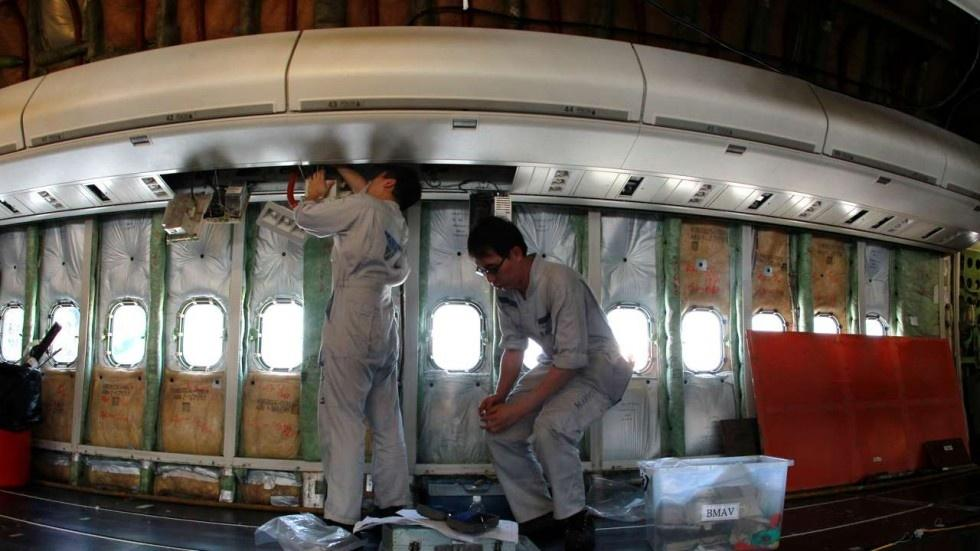NoHelmet: (464, 214, 528, 295), (372, 161, 424, 207)
